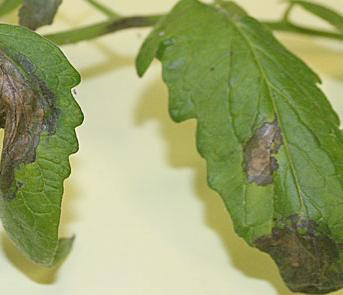Tomato leaf late blight: (131, 0, 343, 295), (0, 15, 97, 280)
